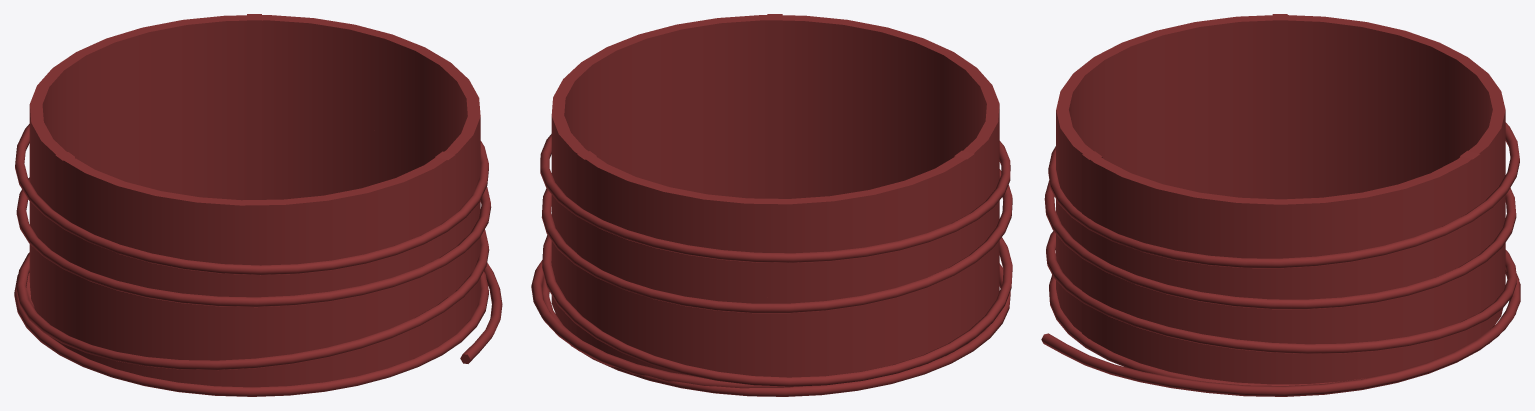
File: SM_WiresPack03.fbx
3 views of the same model, side by side, from view 1: azimuth 30°, elevation 25°; view 2: azimuth 150°, elevation 25°; view 3: azimuth 270°, elevation 25° (orthographic).
Visible parts, largest first — view 1: WiresPack03; view 2: WiresPack03; view 3: WiresPack03.
Part boxes in pixels (<box>): WiresPack03: <box>14,14,502,396</box>; WiresPack03: <box>531,14,1012,396</box>; WiresPack03: <box>1041,14,1520,396</box>.
Bounding box in the file's own units: 85.45 × 37.1 × 85.05.
